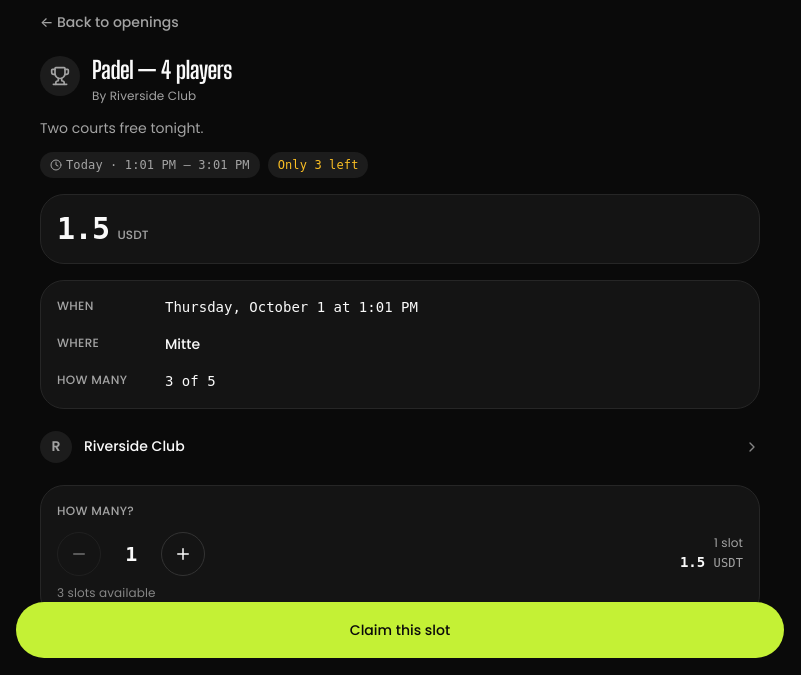
it: quantity selector (Phase 5n-D) › the total is price x quantity, updating live and in exact base-unit math
This screenshot has width=801, height=675.
Check: the text "How many?" is shown, box top-left (57, 502), bottom-right (134, 518)
Check: the 2nd text "1.5" is shown, box top-left (680, 554), bottom-right (705, 570)
Click the button named "one more slot".
click(183, 554)  # box top-left (161, 532), bottom-right (205, 576)
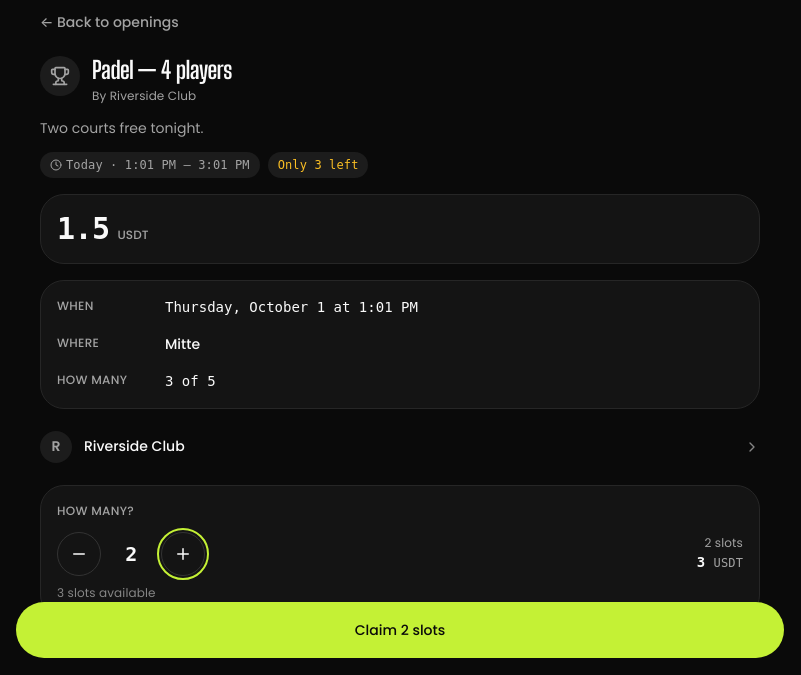
Check: the text "3" is shown, box top-left (697, 554), bottom-right (705, 570)
Click the button named "one more slot".
click(183, 554)  # box top-left (161, 532), bottom-right (205, 576)
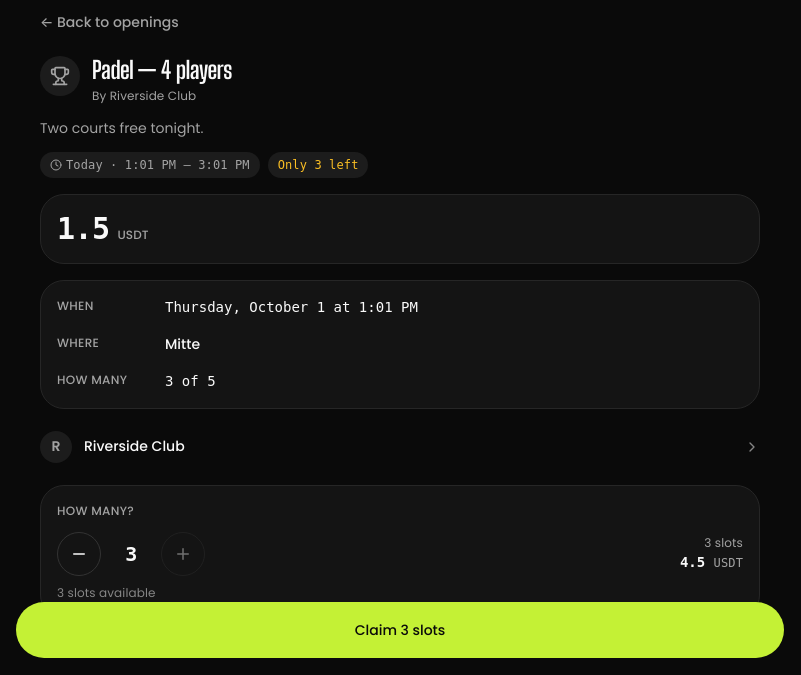
Check: the text "4.5" is shown, box top-left (680, 554), bottom-right (705, 570)
